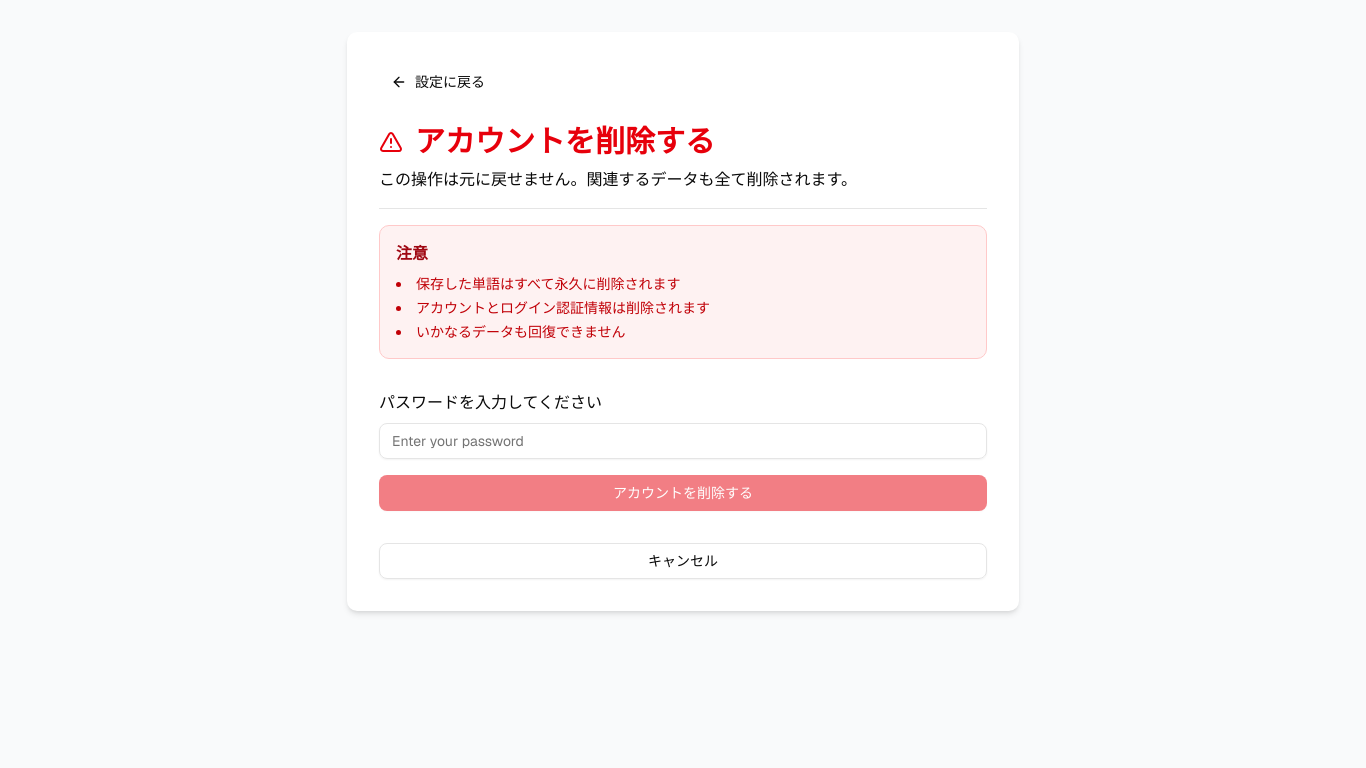
DeleteAccount › エラーレスポンスにmessageがない場合は既定のエラーが表示される
Type "wrong-password" into the password field with placeholder "Enter your password" at (683, 441), box x1=379 y1=423 x2=987 y2=459
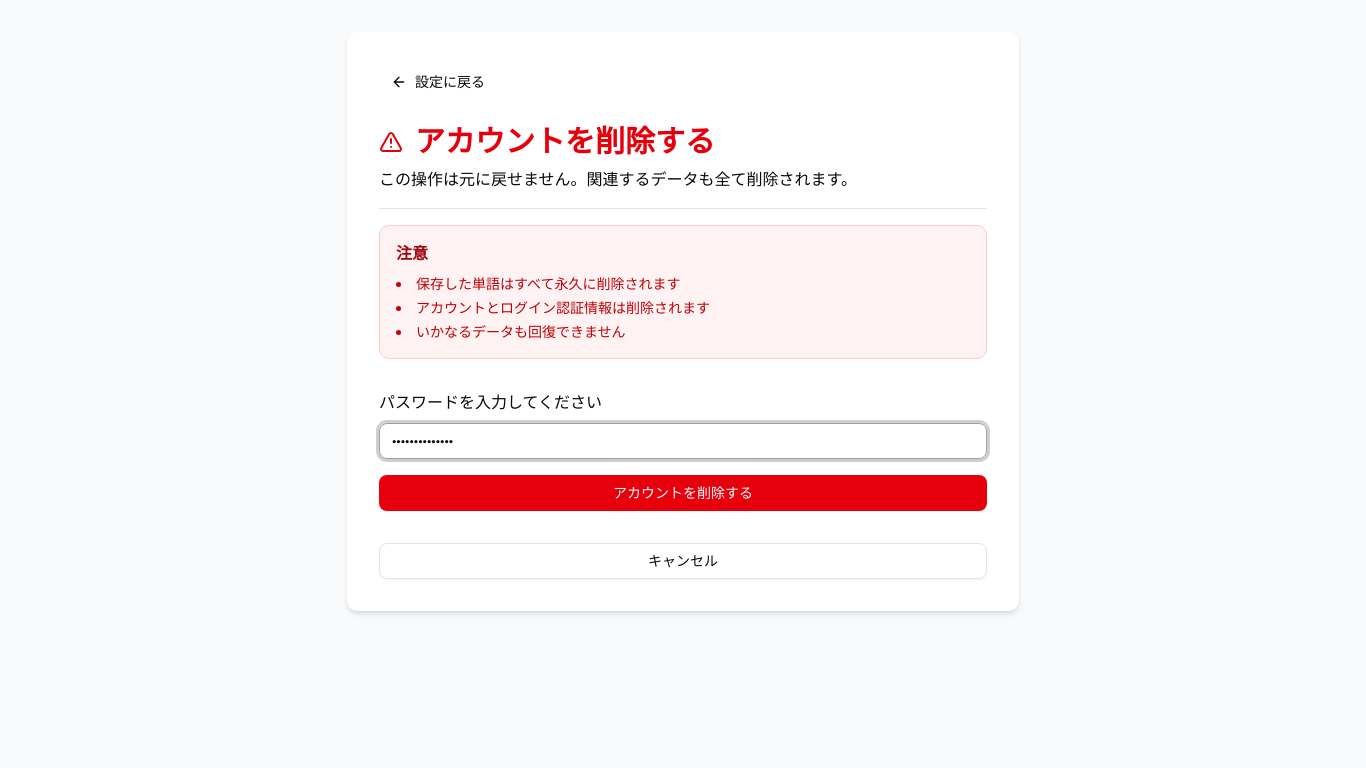
Click the button "アカウントを削除する" at (683, 493), box x1=379 y1=475 x2=987 y2=511
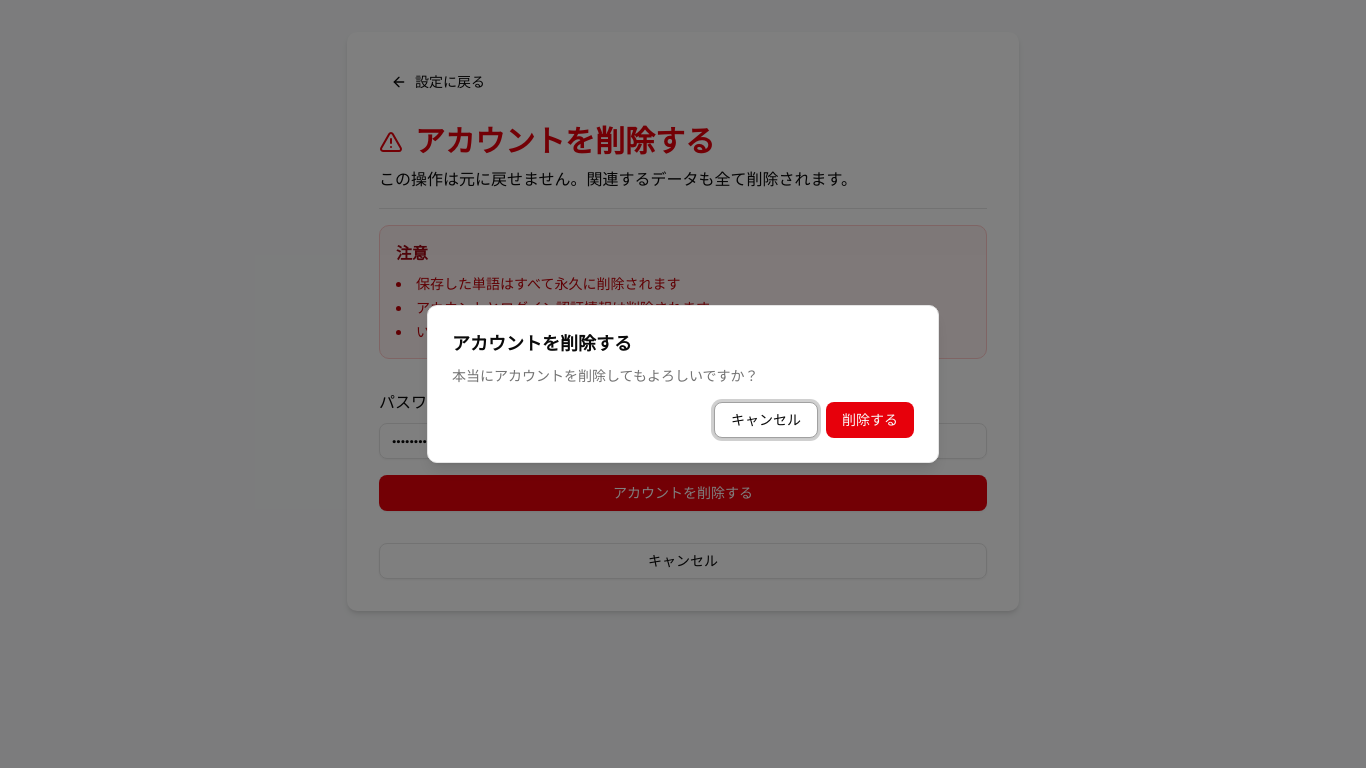
Click the button "削除する" at (870, 420), box x1=826 y1=402 x2=914 y2=438
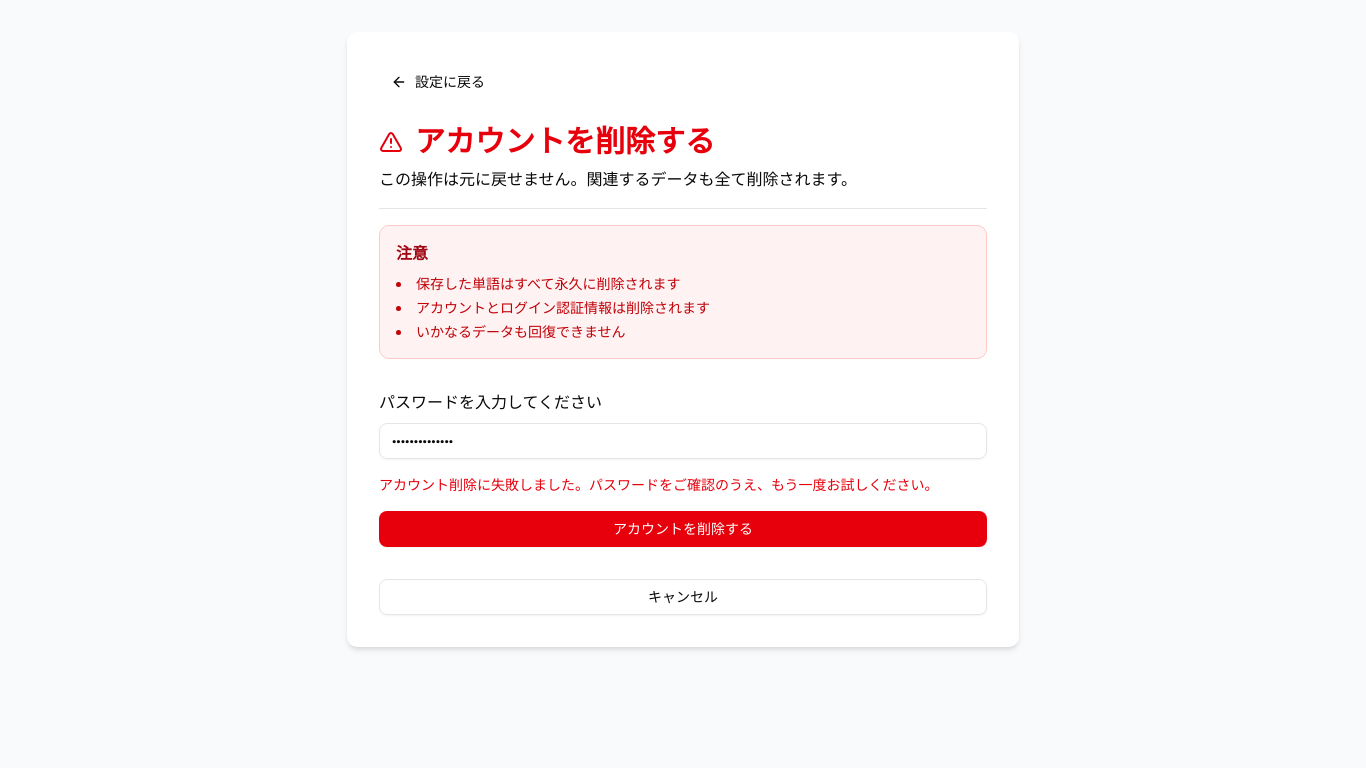
expect the text "アカウント削除に失敗しました。パスワードをご確認のうえ、もう一度お試しください。" is shown: met, box x1=379 y1=475 x2=987 y2=495
